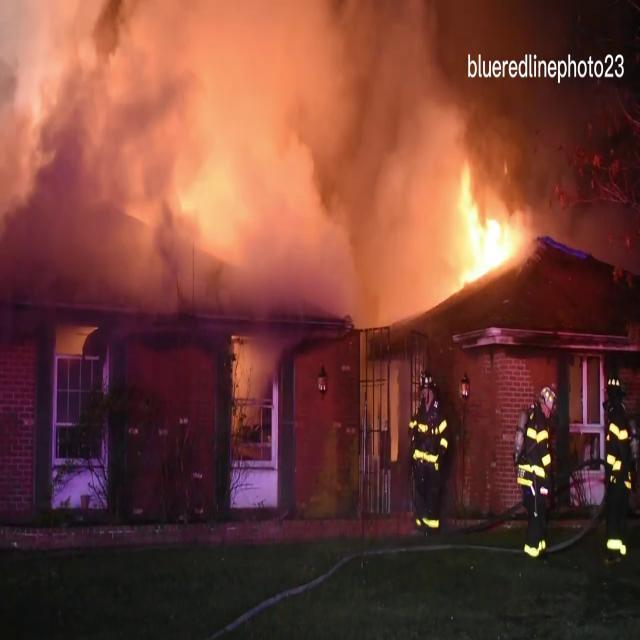Fire: (432, 157, 534, 297)
Smoke: (0, 0, 456, 294)
